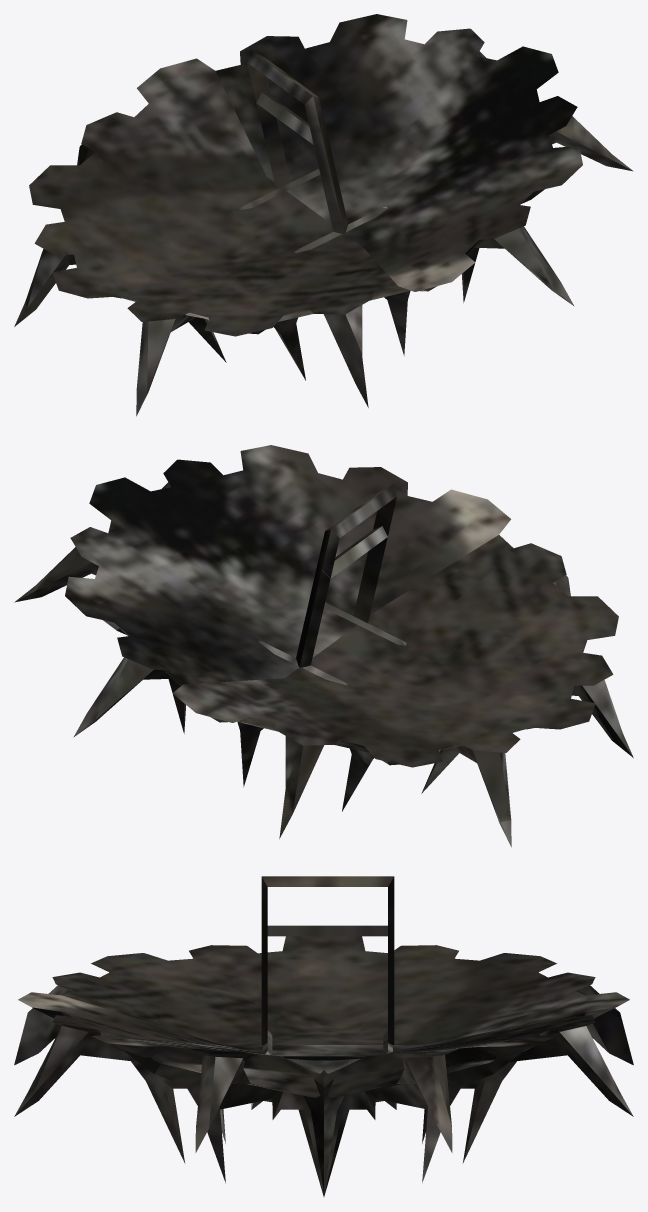
3 views of the same model, one above another, from view 1: azimuth 30°, elevation 25°; view 2: azimuth 150°, elevation 25°; view 3: azimuth 270°, elevation 25° (orthographic). The views are drawn at different scales.
Visible parts, largest first — view 1: mesh_0; view 2: mesh_0; view 3: mesh_0.
Boxes of the visible parts, box(x1,y1,x2,y2) form: mesh_0: box(14, 14, 633, 416); mesh_0: box(14, 445, 633, 847); mesh_0: box(14, 876, 633, 1196).
Size of the model in its own units: 26.05 by 13.39 by 25.93.
1 material, 1 textured.
